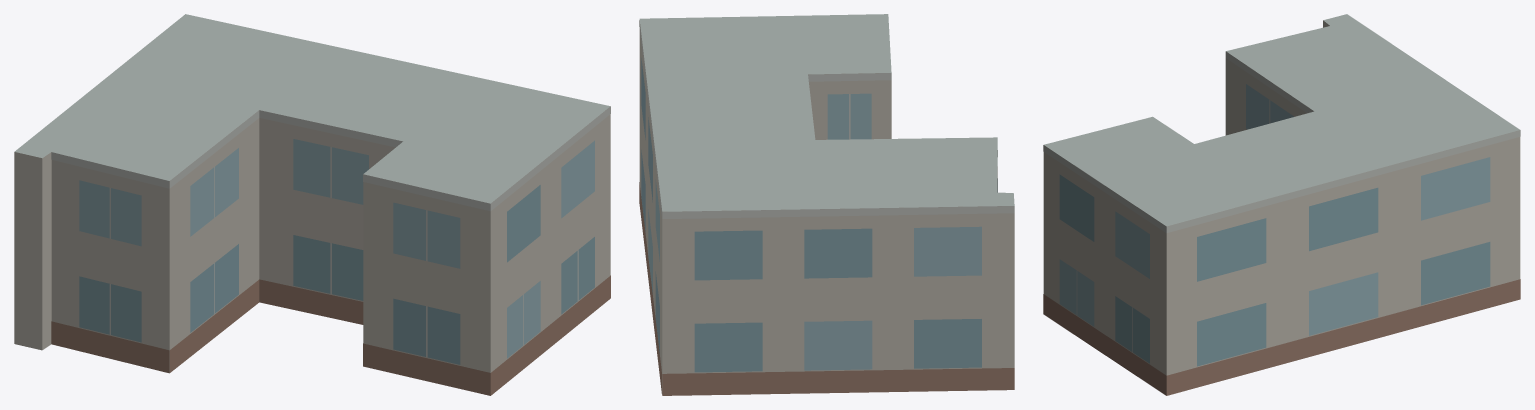
The model's file is survey-upis-32749951.glb.
3 views of the same model, side by side, from view 1: azimuth 30°, elevation 25°; view 2: azimuth 150°, elevation 25°; view 3: azimuth 270°, elevation 25° (orthographic). The views are drawn at different scales.
Visible parts, largest first — view 1: survey-upis-32749951.tmp; view 2: survey-upis-32749951.tmp; view 3: survey-upis-32749951.tmp.
Boxes of the visible parts, x1=… form: survey-upis-32749951.tmp: x1=14, y1=14, x2=610, y2=395; survey-upis-32749951.tmp: x1=639, y1=14, x2=1014, y2=395; survey-upis-32749951.tmp: x1=1043, y1=14, x2=1520, y2=395.
Size of the model in its own units: 16.41 by 6.1 by 15.58.
